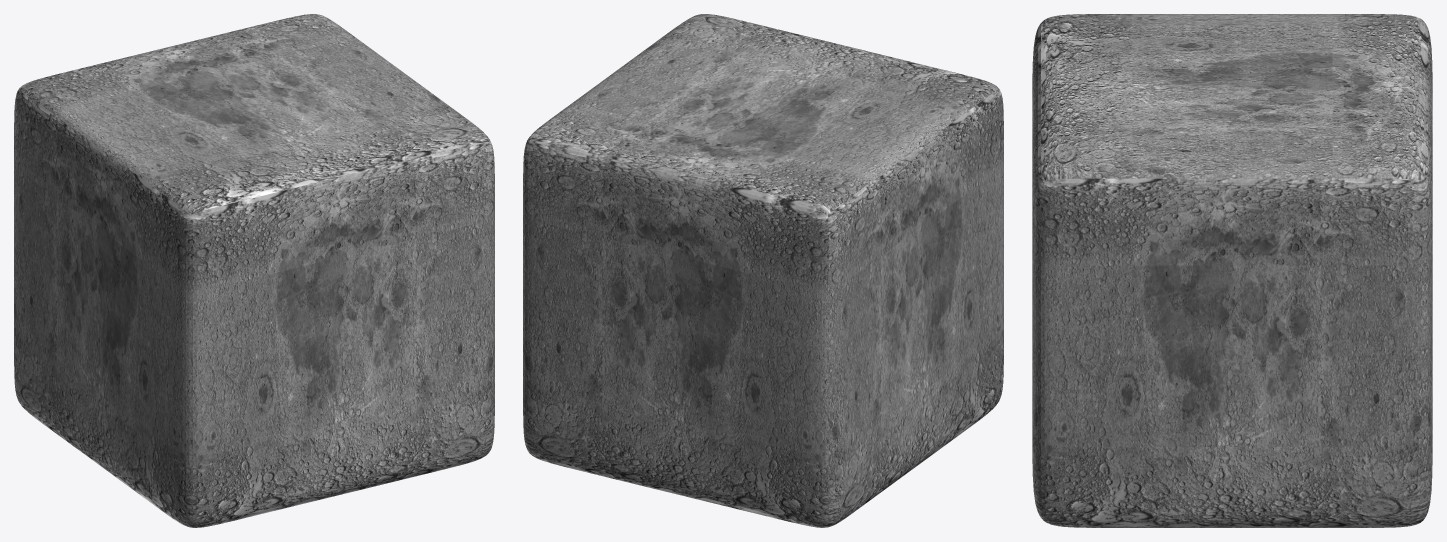
The model's file is block.obj.
The picture shows the model from 3 angles, left to right: view 1: azimuth 30°, elevation 25°; view 2: azimuth 150°, elevation 25°; view 3: azimuth 270°, elevation 25°; orthographic projection. The views are drawn at different scales.
Parts seen in each view (by area): view 1: Cube; view 2: Cube; view 3: Cube.
Part boxes in pixels (x1,y1,x2,y2): Cube: (14,14,494,527); Cube: (523,14,1003,527); Cube: (1032,14,1432,527).
Size of the model in its own units: 2 by 2 by 2.
1 material, 1 textured.
